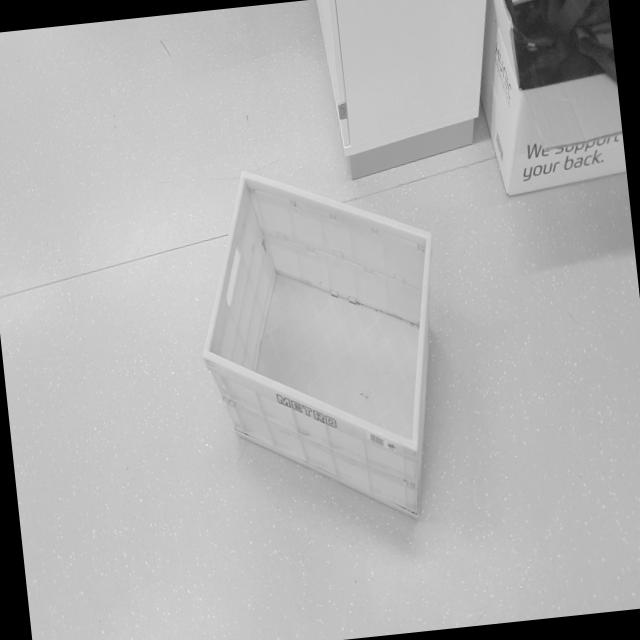box: (178, 142, 462, 552)
